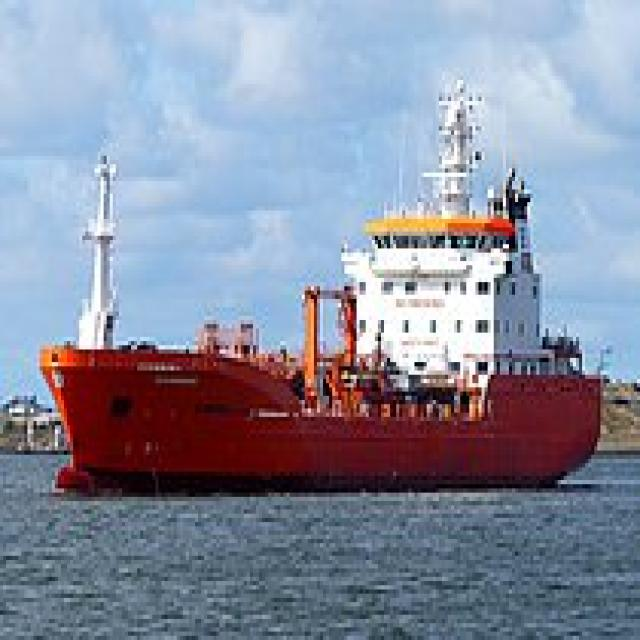Tanker: (31, 63, 604, 497)
